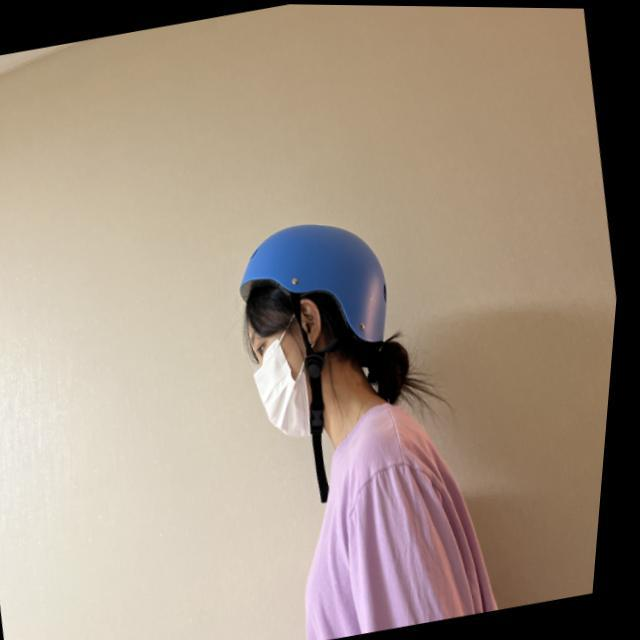Helmet: (222, 210, 448, 454)
